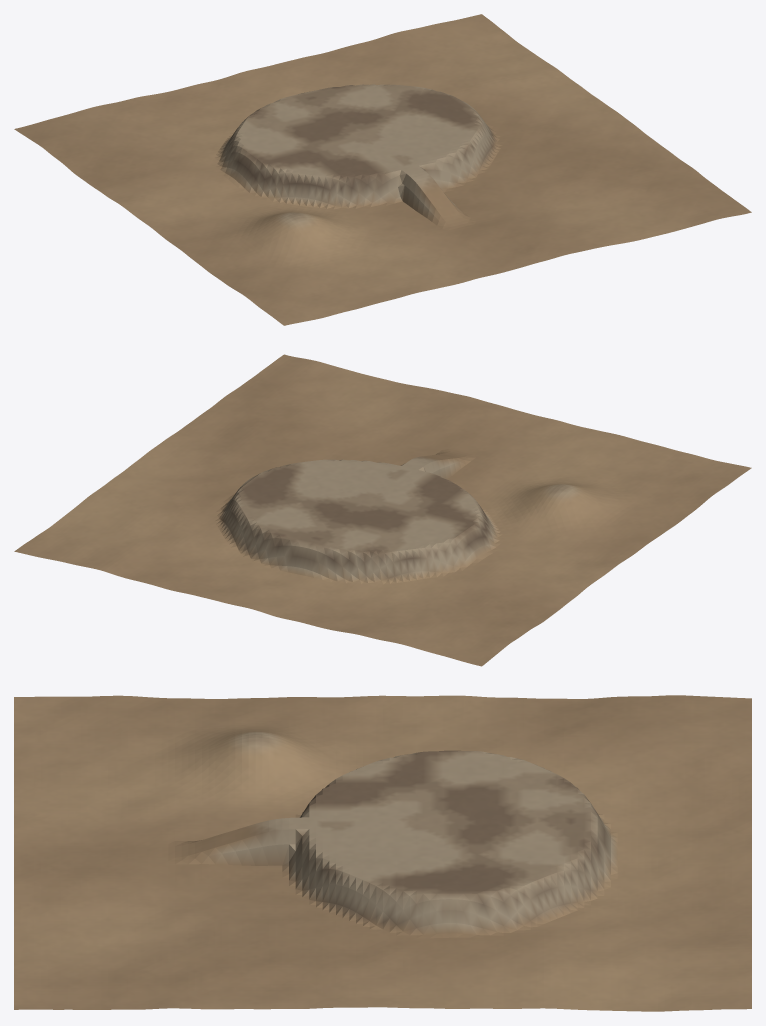
Rendered from terrain.glb.
3 views of the same model, one above another, from view 1: azimuth 30°, elevation 25°; view 2: azimuth 150°, elevation 25°; view 3: azimuth 270°, elevation 25° (orthographic). The views are drawn at different scales.
Visible parts, largest first — view 1: Terrain; view 2: Terrain; view 3: Terrain.
Boxes of the visible parts, bbox=[...] form: Terrain: bbox=[14, 14, 751, 325]; Terrain: bbox=[14, 354, 751, 666]; Terrain: bbox=[14, 695, 751, 1011].
Size of the model in its own units: 220 by 11.57 by 220.
